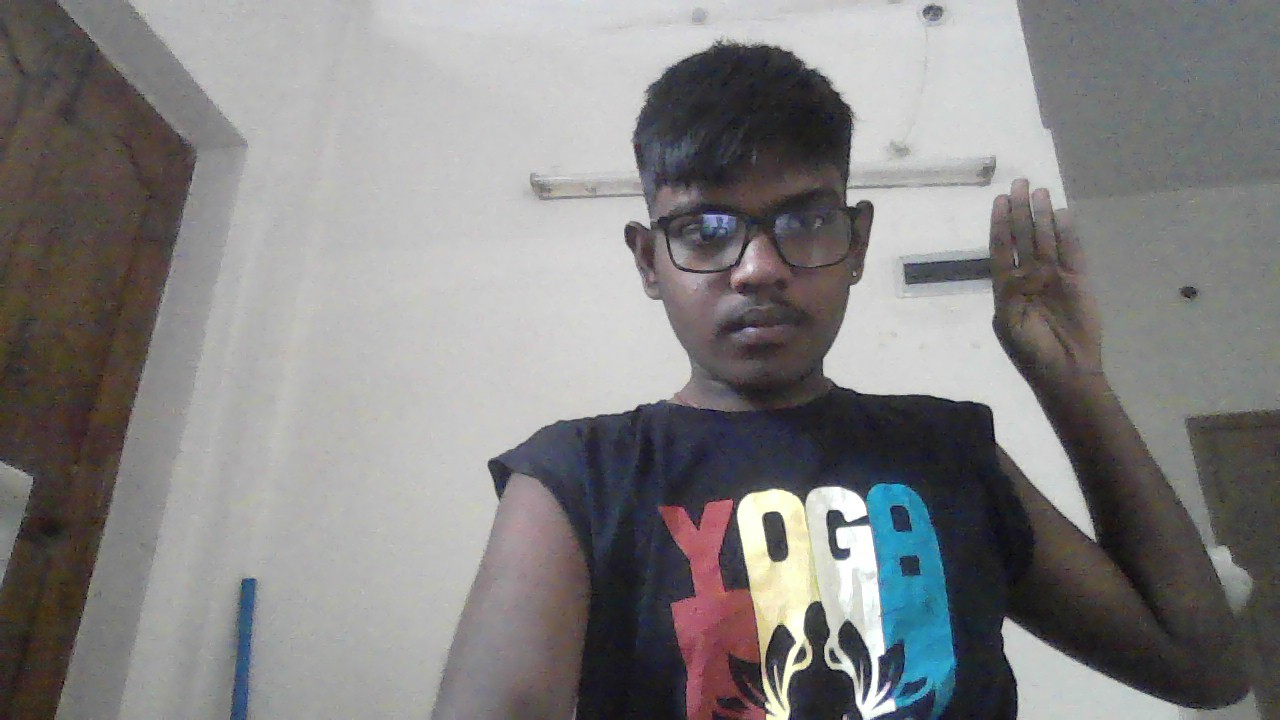B: (990, 177, 1105, 380)
